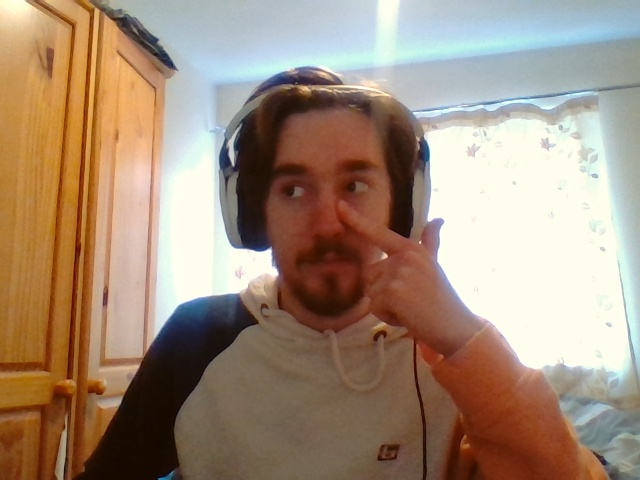luck: (337, 199, 444, 330)
